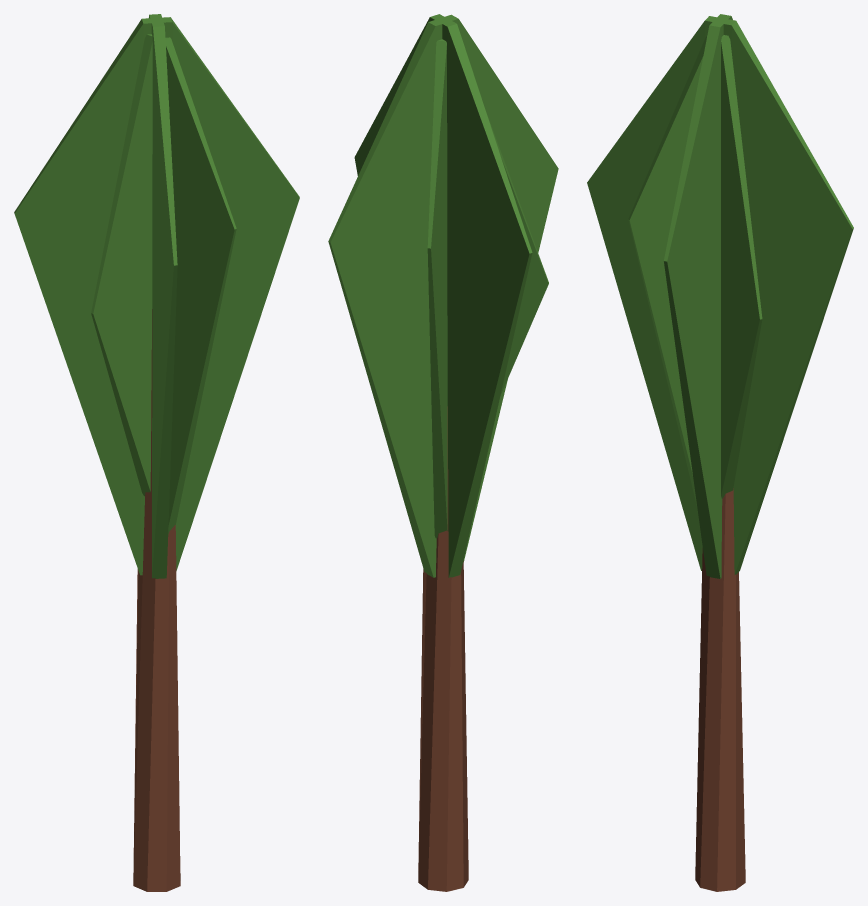
Rendered from Tree_31_summer_vc.fbx.
3 views of the same model, side by side, from view 1: azimuth 30°, elevation 25°; view 2: azimuth 150°, elevation 25°; view 3: azimuth 270°, elevation 25° (orthographic).
Parts seen in each view (by area): view 1: Tree_31_summer_vc; view 2: Tree_31_summer_vc; view 3: Tree_31_summer_vc.
Boxes of the visible parts, box(x1,y1,x2,y2) form: Tree_31_summer_vc: box(14, 14, 299, 891); Tree_31_summer_vc: box(328, 14, 558, 891); Tree_31_summer_vc: box(587, 14, 853, 891).
Bounding box in the file's own units: 2.2 × 7.83 × 2.2.
